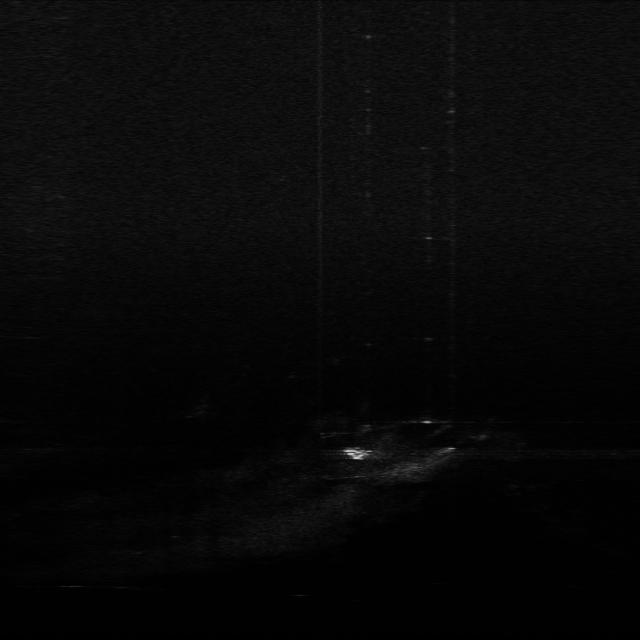rov: (343, 444, 376, 462)
